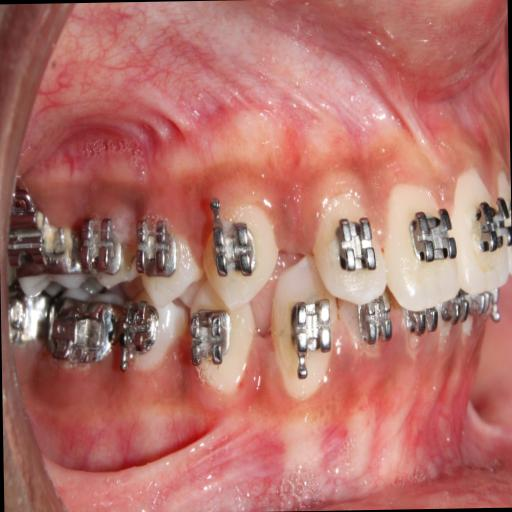correct_brace: (133, 219, 200, 310), (210, 214, 256, 285), (409, 204, 458, 266), (338, 216, 378, 274)
incorrect_brace: (316, 188, 384, 306), (134, 221, 178, 284)
